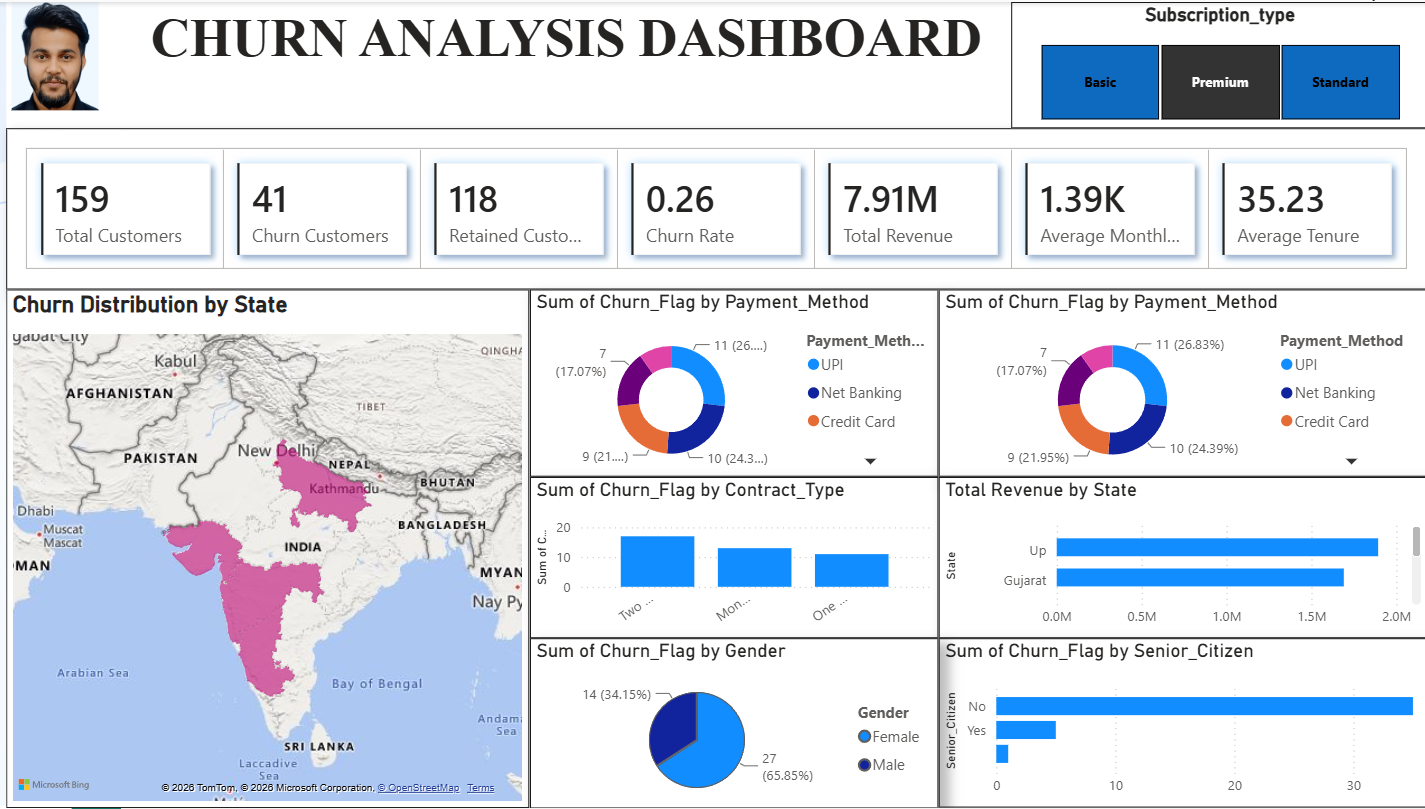

The page's visual inventory and layout, read from the dashboard file:
{"tool":"powerbi","page":{"name":"Page 1","canvas":[1280,720],"ordinal":0},"visuals":[{"type":"textbox","box":[10.1,0,1269.6,112.5],"z":0},{"type":"cardVisual","fields":{"Data":["Dax_Measures.Total Customers","Dax_Measures.Churn Customers","Dax_Measures.Retained Customers","Dax_Measures.Churn Rate","Dax_Measures.Total Revenue","Dax_Measures.Average Monthly Charges","Dax_Measures.Average Tenure"]},"box":[10.1,112.5,1269.6,144.3],"z":1000},{"type":"image","box":[10.1,0,86.6,96.7],"z":1500},{"type":"filledMap","title":"Churn Distribution by State","fields":{"Category":["Clean_Churn_Data.State"]},"box":[10.1,256.8,467.5,463.1],"z":2000},{"type":"donutChart","fields":{"Category":["Clean_Churn_Data.Payment_Method"],"Y":["Sum(Clean_Churn_Data.Churn_Flag)"]},"box":[477.6,256.8,365,167.4],"z":2001},{"type":"slicer","title":"Subscription_type","fields":{"Values":["Clean_Churn_Data.Subscription_Type"]},"box":[907.8,0,371.8,112.8],"z":2002},{"type":"columnChart","fields":{"Category":["Clean_Churn_Data.Contract_Type"],"Y":["Sum(Clean_Churn_Data.Churn_Flag)"]},"box":[477.6,424.2,365,144.3],"z":2003},{"type":"donutChart","fields":{"Category":["Clean_Churn_Data.Payment_Method"],"Y":["Sum(Clean_Churn_Data.Churn_Flag)"]},"box":[842.6,256.8,437.2,167.4],"z":2005},{"type":"clusteredBarChart","fields":{"Y":["Dax_Measures.Total Revenue"],"Category":["Clean_Churn_Data.State"]},"box":[842.6,424.2,437.2,144.3],"z":2006},{"type":"clusteredBarChart","fields":{"Category":["Clean_Churn_Data.Senior_Citizen"],"Y":["Sum(Clean_Churn_Data.Churn_Flag)"]},"box":[843,568,437,151],"z":2007},{"type":"pieChart","fields":{"Category":["Clean_Churn_Data.Gender"],"Y":["Sum(Clean_Churn_Data.Churn_Flag)"]},"box":[478,568,365,152],"z":2008}]}

Visuals, with their boxes in screenshot pixels (x1, y1, x2, y2), scaled from the page's 1280x720 canvas onto the 1425x809 screenshot:
textbox: 11,0,1424,126
cardVisual - Dax_Measures.Total Customers x Dax_Measures.Churn Customers: 11,126,1424,289
image: 11,0,108,109
"Churn Distribution by State" filledMap: 11,289,532,808
donutChart - Clean_Churn_Data.Payment_Method x Sum(Clean_Churn_Data.Churn_Flag): 532,289,938,477
"Subscription_type" slicer: 1011,0,1424,127
columnChart - Clean_Churn_Data.Contract_Type x Sum(Clean_Churn_Data.Churn_Flag): 532,477,938,639
donutChart - Clean_Churn_Data.Payment_Method x Sum(Clean_Churn_Data.Churn_Flag): 938,289,1424,477
clusteredBarChart - Dax_Measures.Total Revenue x Clean_Churn_Data.State: 938,477,1424,639
clusteredBarChart - Clean_Churn_Data.Senior_Citizen x Sum(Clean_Churn_Data.Churn_Flag): 938,638,1424,808
pieChart - Clean_Churn_Data.Gender x Sum(Clean_Churn_Data.Churn_Flag): 532,638,938,808
